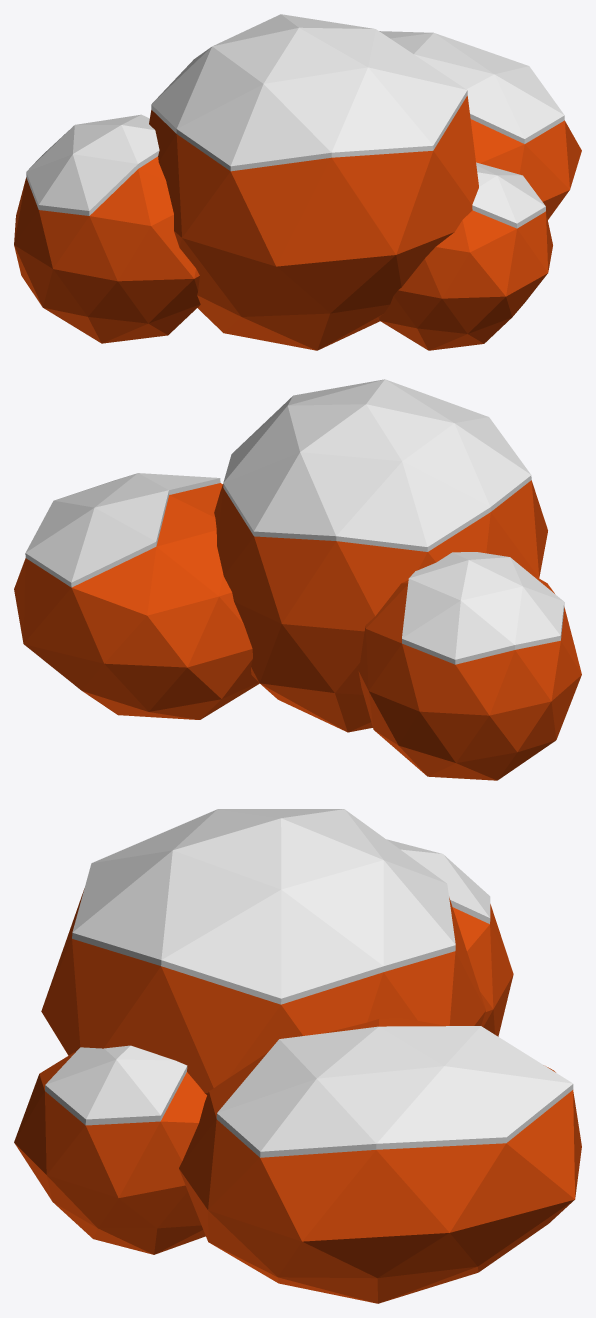
Rendered from Bushb.fbx.
3 renders of one model, top to bottom at view 1: azimuth 30°, elevation 25°; view 2: azimuth 150°, elevation 25°; view 3: azimuth 270°, elevation 25°, orthographic. The views are drawn at different scales.
Visible parts, largest first — view 1: Bush; view 2: Bush; view 3: Bush.
Part boxes in pixels (<box>): Bush: <box>14,14,581,350</box>; Bush: <box>14,379,581,780</box>; Bush: <box>14,809,581,1303</box>.
Bounding box in the file's own units: 1507 × 793 × 1142.
